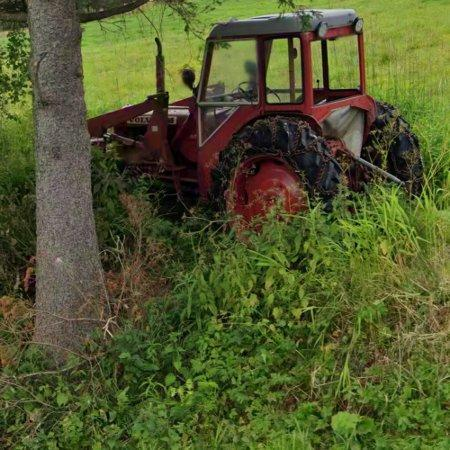tractors: (88, 9, 424, 228)
